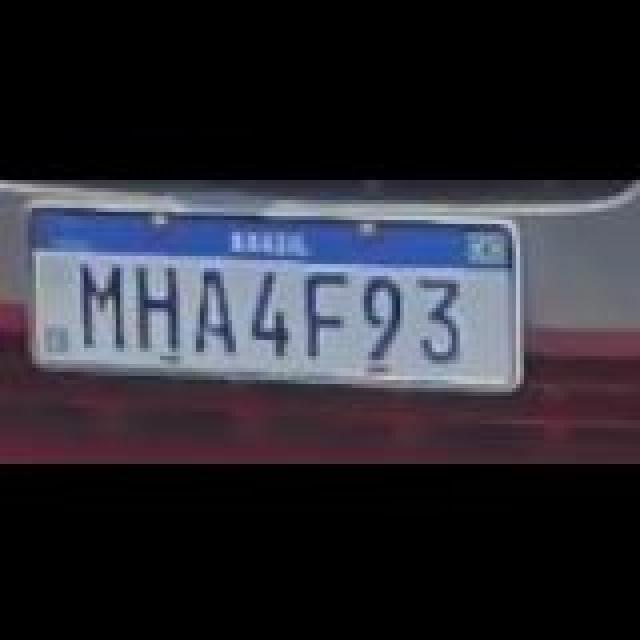3: (418, 272, 470, 360)
4: (250, 268, 294, 356)
9: (360, 274, 408, 358)
A: (192, 264, 240, 352)
F: (302, 268, 354, 356)
H: (132, 260, 188, 348)
M: (76, 260, 132, 348)
